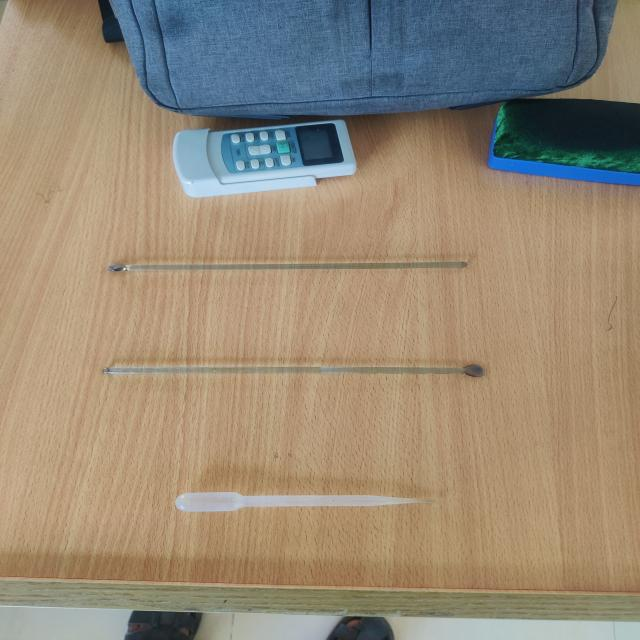Glass_Rod: (67, 332, 510, 406), (107, 242, 509, 306)
Pipette: (146, 474, 487, 536)
